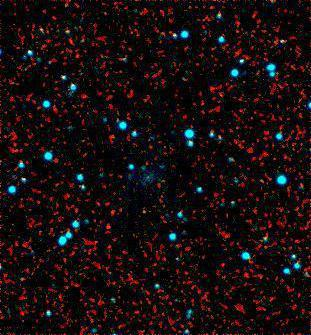star: (102, 107, 132, 137)
